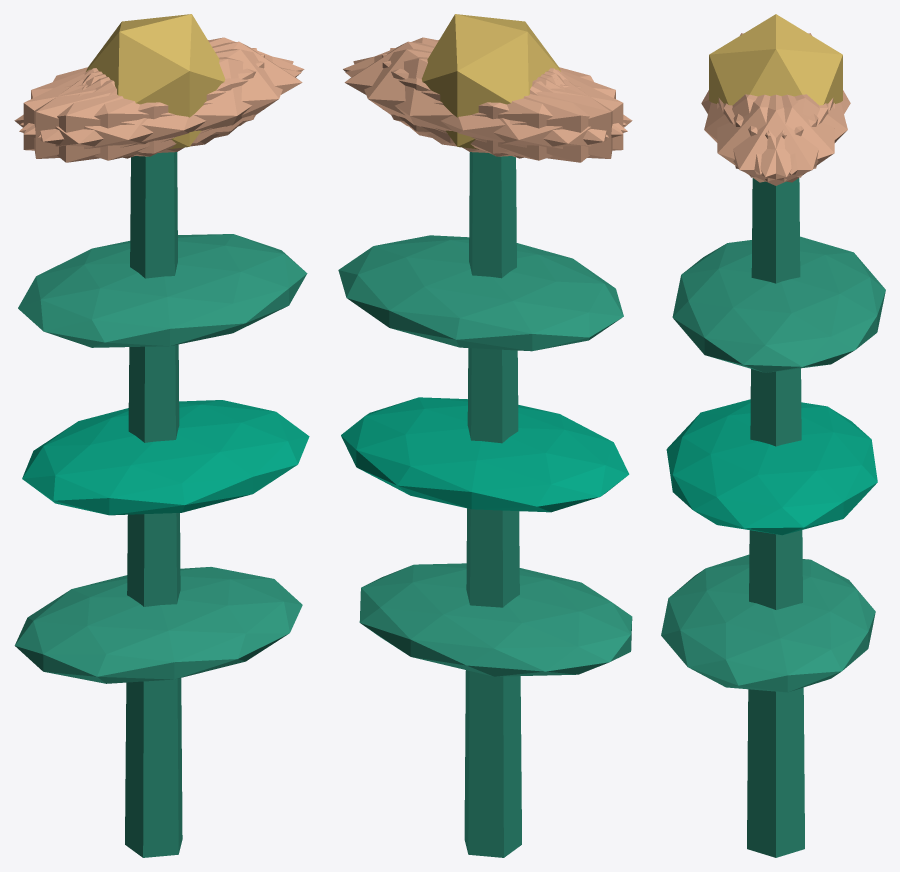
The model's file is viburnum-odoratissimum.glb.
3 views of the same model, side by side, from view 1: azimuth 30°, elevation 25°; view 2: azimuth 150°, elevation 25°; view 3: azimuth 270°, elevation 25° (orthographic).
Parts seen in each view (by area): view 1: stem, leaf0, leaf1, leaf2, center, petal1, petal6, petal2, petal5, petal7, petal0, petal4 (+2 smaller); view 2: stem, leaf2, leaf1, leaf0, center, petal8, petal3, petal7, petal4, petal2, petal0, petal5 (+2 smaller); view 3: stem, leaf2, leaf1, leaf0, center, petal0, petal5, petal4, petal8, petal1.
Boxes of the visible parts, left/top/right/bottom form: stem: left=125, top=152, right=182, bottom=857; leaf0: left=14, top=567, right=302, bottom=683; leaf1: left=22, top=400, right=309, bottom=515; leaf2: left=18, top=234, right=307, bottom=347; center: left=86, top=14, right=225, bottom=149; petal1: left=19, top=57, right=301, bottom=160; petal6: left=14, top=69, right=219, bottom=162; petal2: left=34, top=48, right=256, bottom=158; petal5: left=38, top=49, right=293, bottom=153; petal7: left=23, top=54, right=264, bottom=156; petal0: left=85, top=41, right=302, bottom=143; petal4: left=20, top=37, right=304, bottom=134; stem: left=464, top=152, right=521, bottom=857; leaf2: left=338, top=235, right=623, bottom=351; leaf1: left=341, top=397, right=629, bottom=512; leaf0: left=359, top=563, right=632, bottom=676; center: left=422, top=14, right=560, bottom=149; petal8: left=345, top=57, right=627, bottom=160; petal3: left=427, top=69, right=632, bottom=162; petal7: left=390, top=48, right=612, bottom=158; petal4: left=353, top=49, right=608, bottom=153; petal2: left=382, top=54, right=623, bottom=156; petal0: left=344, top=41, right=561, bottom=143; petal5: left=343, top=37, right=626, bottom=134; stem: left=747, top=178, right=804, bottom=857; leaf2: left=672, top=236, right=885, bottom=372; leaf1: left=666, top=399, right=877, bottom=535; leaf0: left=661, top=554, right=875, bottom=692; center: left=709, top=14, right=842, bottom=105; petal0: left=718, top=94, right=833, bottom=185; petal5: left=717, top=94, right=828, bottom=182; petal4: left=723, top=94, right=834, bottom=182; petal8: left=733, top=94, right=847, bottom=174; petal1: left=704, top=94, right=818, bottom=174.
Bounding box in the file's own units: 0.1452 × 0.4106 × 0.1029.
